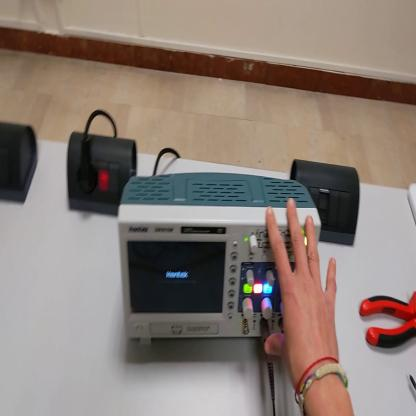hand: (263, 198, 343, 384)
oscilloscope: (115, 172, 320, 351)
pliers: (360, 292, 415, 352)
screwdriver-: (408, 373, 416, 392)
socket: (64, 134, 139, 219), (2, 120, 40, 208)
